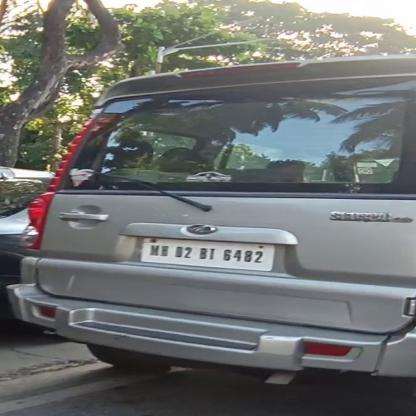license_plate: (140, 236, 273, 272)
